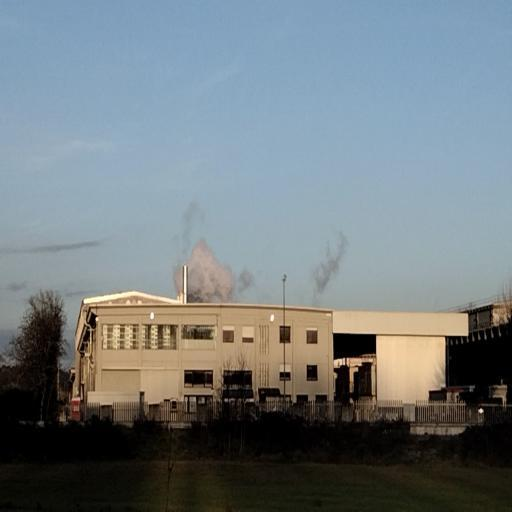leakage: (171, 232, 236, 304)
